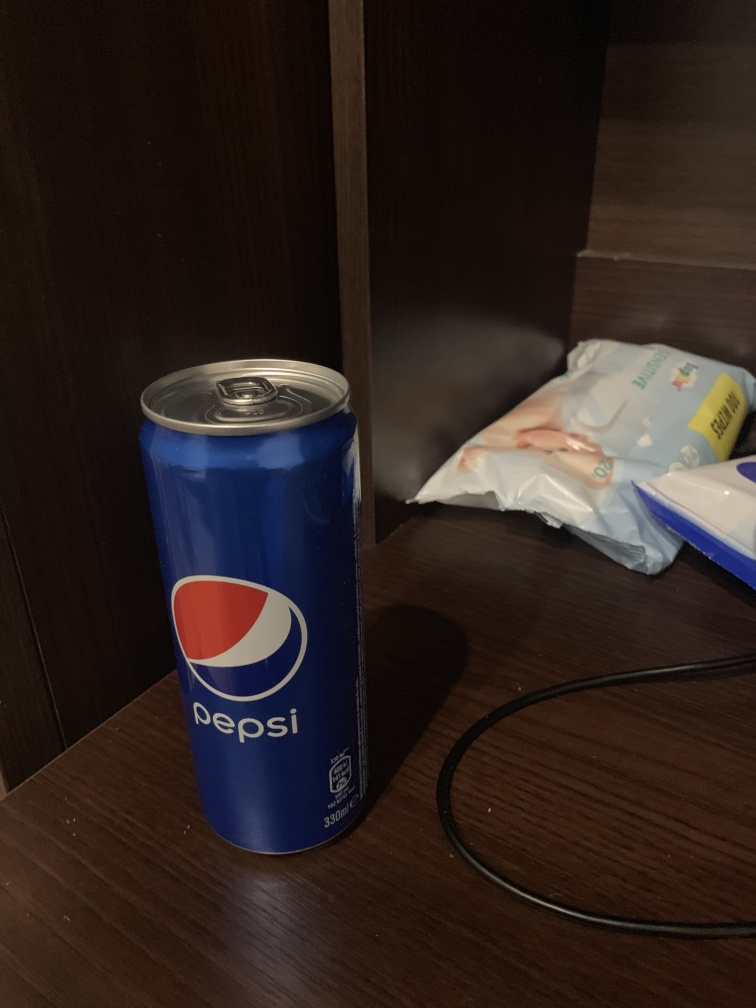pepsi: (121, 353, 388, 870)
